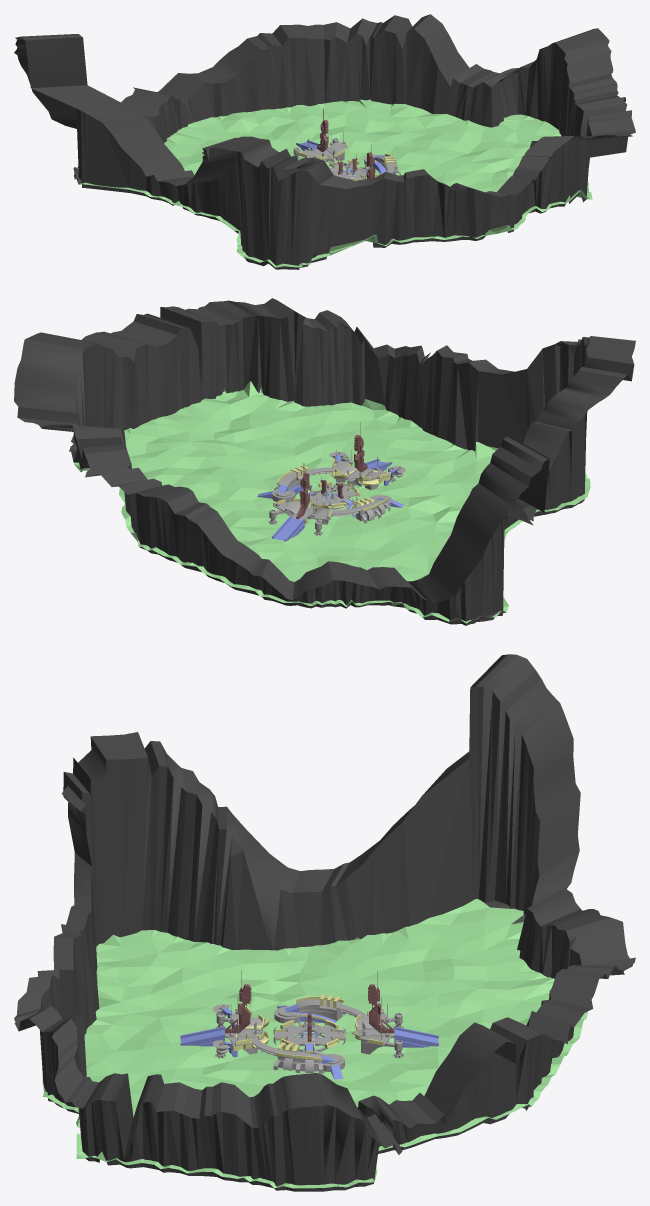
The model's file is UnityPackageEnvironment.fbx.
The picture shows the model from 3 angles, top to bottom: view 1: azimuth 30°, elevation 25°; view 2: azimuth 150°, elevation 25°; view 3: azimuth 270°, elevation 25°; orthographic projection. The views are drawn at different scales.
Visible parts, largest first — view 1: bottomlayerofmaptest1:polySurface1, polySurface289; view 2: bottomlayerofmaptest1:polySurface1, polySurface289, polySurface279, polySurface161, polySurface159, polySurface281; view 3: bottomlayerofmaptest1:polySurface1, polySurface289, polySurface279, polySurface161, polySurface159, polySurface119.
Part boxes in pixels (x1,y1,x2,y2): bottomlayerofmaptest1:polySurface1: (14, 14, 635, 269); polySurface289: (296, 108, 334, 161); bottomlayerofmaptest1:polySurface1: (14, 298, 635, 625); polySurface289: (272, 463, 316, 541); polySurface279: (347, 422, 392, 486); polySurface161: (352, 497, 390, 523); polySurface159: (274, 465, 312, 495); polySurface281: (268, 492, 308, 524); bottomlayerofmaptest1:polySurface1: (14, 654, 635, 1191); polySurface289: (351, 971, 438, 1047); polySurface279: (180, 971, 264, 1046); polySurface161: (285, 994, 345, 1023); polySurface159: (273, 1042, 334, 1073); polySurface119: (274, 1024, 344, 1046).
Bounding box in the file's own units: 1169 × 338 × 865.
